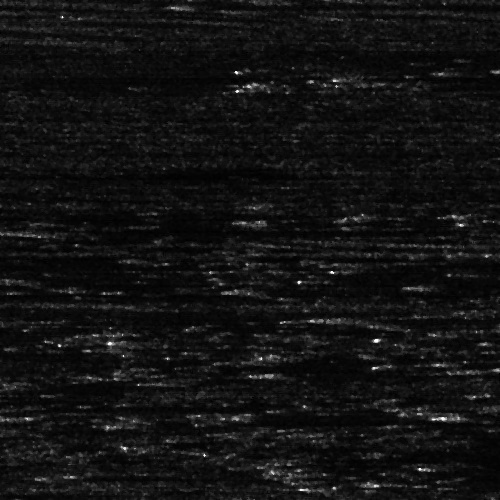object: (322, 313, 415, 322), (0, 226, 90, 235), (224, 366, 297, 375), (0, 494, 59, 500), (137, 1, 200, 6), (61, 472, 102, 475)
shadow: (0, 207, 317, 220), (43, 226, 394, 235), (0, 483, 164, 500), (261, 366, 439, 375), (22, 494, 188, 500), (169, 1, 352, 6), (369, 313, 461, 322), (0, 408, 57, 413), (81, 472, 167, 475), (0, 293, 36, 298)
